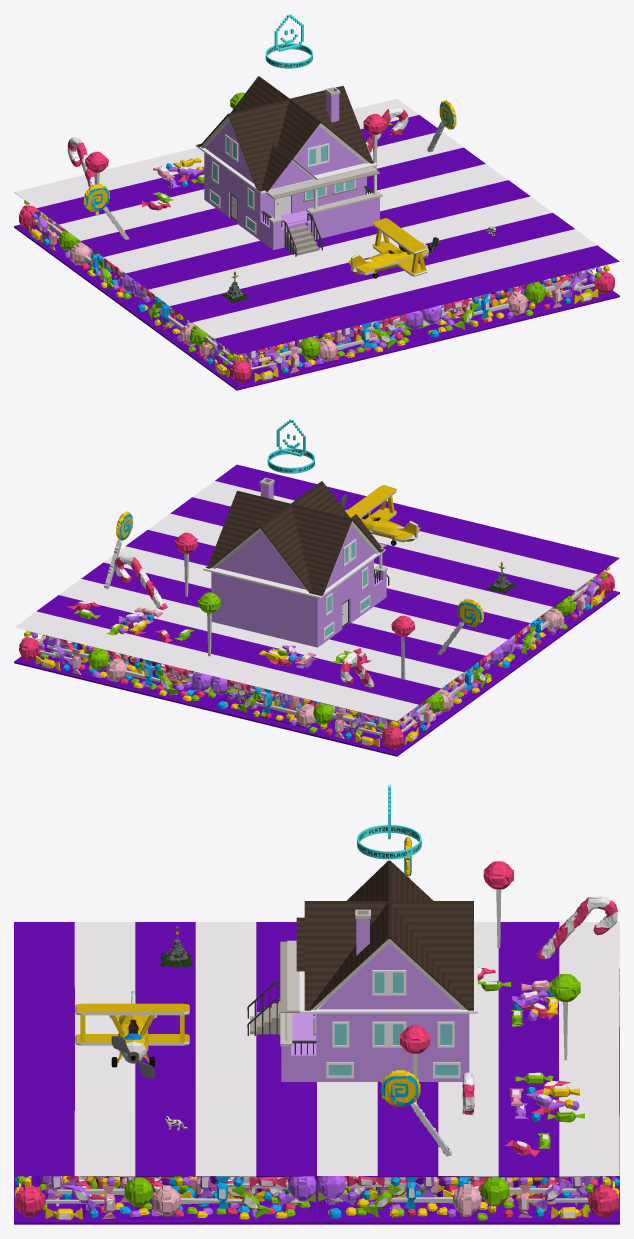
3 views of the same model, one above another, from view 1: azimuth 30°, elevation 25°; view 2: azimuth 150°, elevation 25°; view 3: azimuth 270°, elevation 25° (orthographic). The views are drawn at different scales.
Visible parts, largest first — view 1: TERRAIN_CANDY, Cube.391, VEHICLES_AIRPLANE, TYPE_PREMIUM; view 2: TERRAIN_CANDY, Cube.391, VEHICLES_AIRPLANE, TYPE_PREMIUM; view 3: TERRAIN_CANDY, Cube.391, VEHICLES_AIRPLANE, TYPE_PREMIUM, OBJRANDOM_SWORD_IN_THE_STONE.
Boxes of the visible parts, x1,y1,x2,y2 form: TERRAIN_CANDY: (14,92,619,390); Cube.391: (195,76,382,256); VEHICLES_AIRPLANE: (348,218,438,278); TYPE_PREMIUM: (265,14,312,68); TERRAIN_CANDY: (14,464,619,756); Cube.391: (203,477,389,647); VEHICLES_AIRPLANE: (340,485,420,545); TYPE_PREMIUM: (267,419,314,473); TERRAIN_CANDY: (14,836,619,1224); Cube.391: (247,860,477,1081); VEHICLES_AIRPLANE: (75,991,189,1078); TYPE_PREMIUM: (357,785,421,859); OBJRANDOM_SWORD_IN_THE_STONE: (159,925,192,967).
Size of the model in its own units: 4059 by 2361 by 4000.
Materials: 40 (4 with a texture image).
